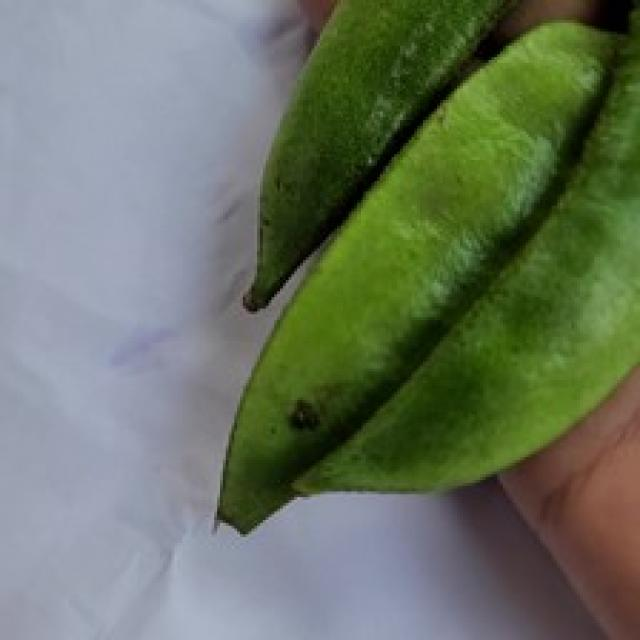Bean: (211, 0, 637, 534)
